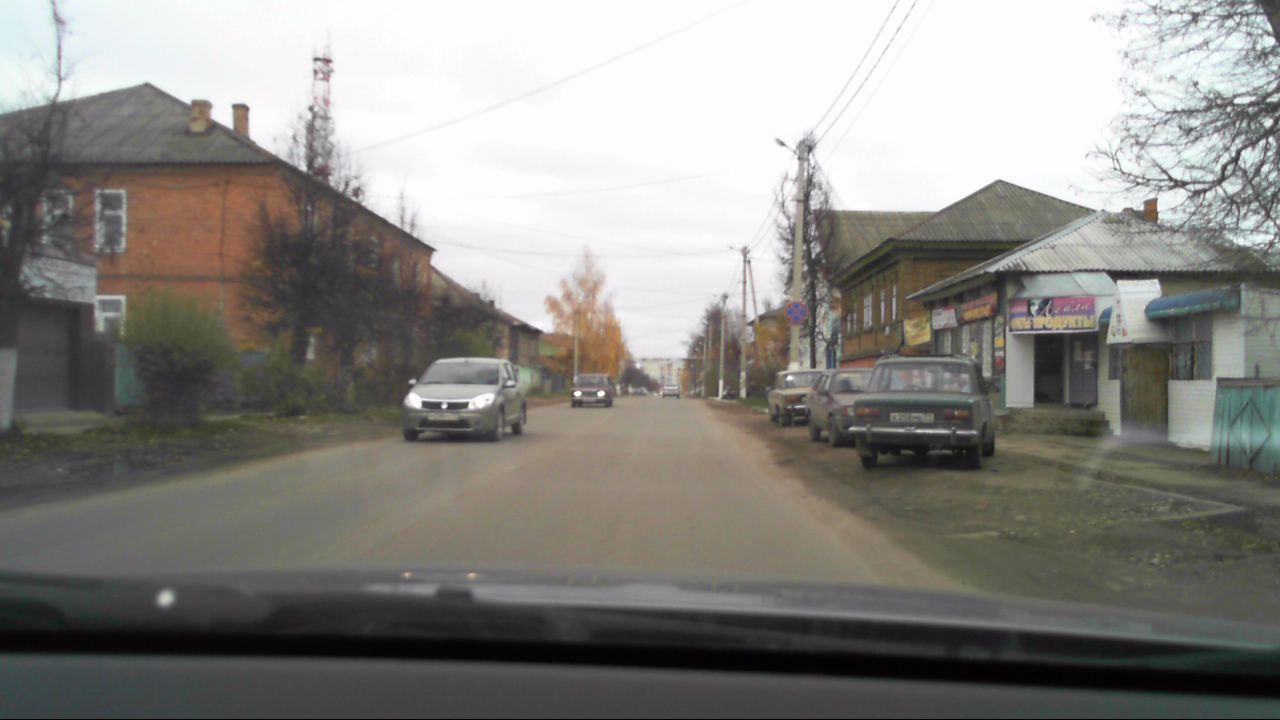No Parking: (781, 301, 807, 327)
